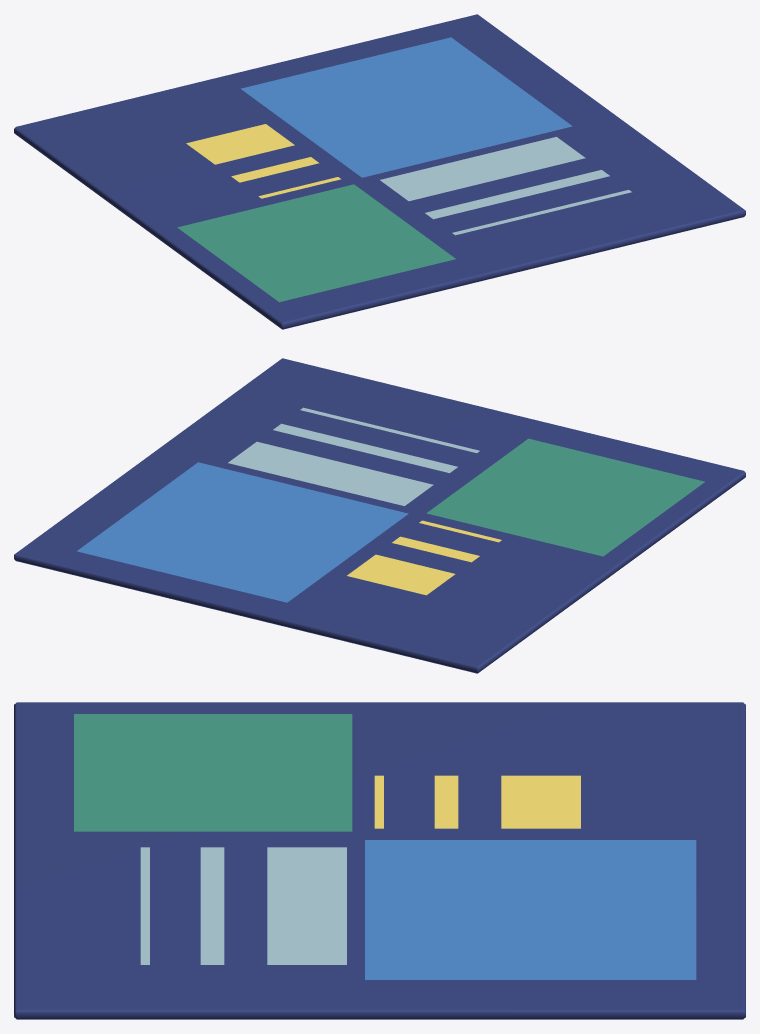
The model's file is Vinyl_box_3.glb.
3 views of the same model, one above another, from view 1: azimuth 30°, elevation 25°; view 2: azimuth 150°, elevation 25°; view 3: azimuth 270°, elevation 25° (orthographic). The views are drawn at different scales.
Parts seen in each view (by area): view 1: Vinyl_box_3; view 2: Vinyl_box_3; view 3: Vinyl_box_3.
Boxes of the visible parts, x1,y1,x2,y2 form: Vinyl_box_3: (14, 14, 745, 329); Vinyl_box_3: (14, 358, 745, 673); Vinyl_box_3: (14, 702, 745, 1019).
Size of the model in its own units: 0.2944 by 0.00473 by 0.2944.
Materials: 1 (1 with a texture image).
